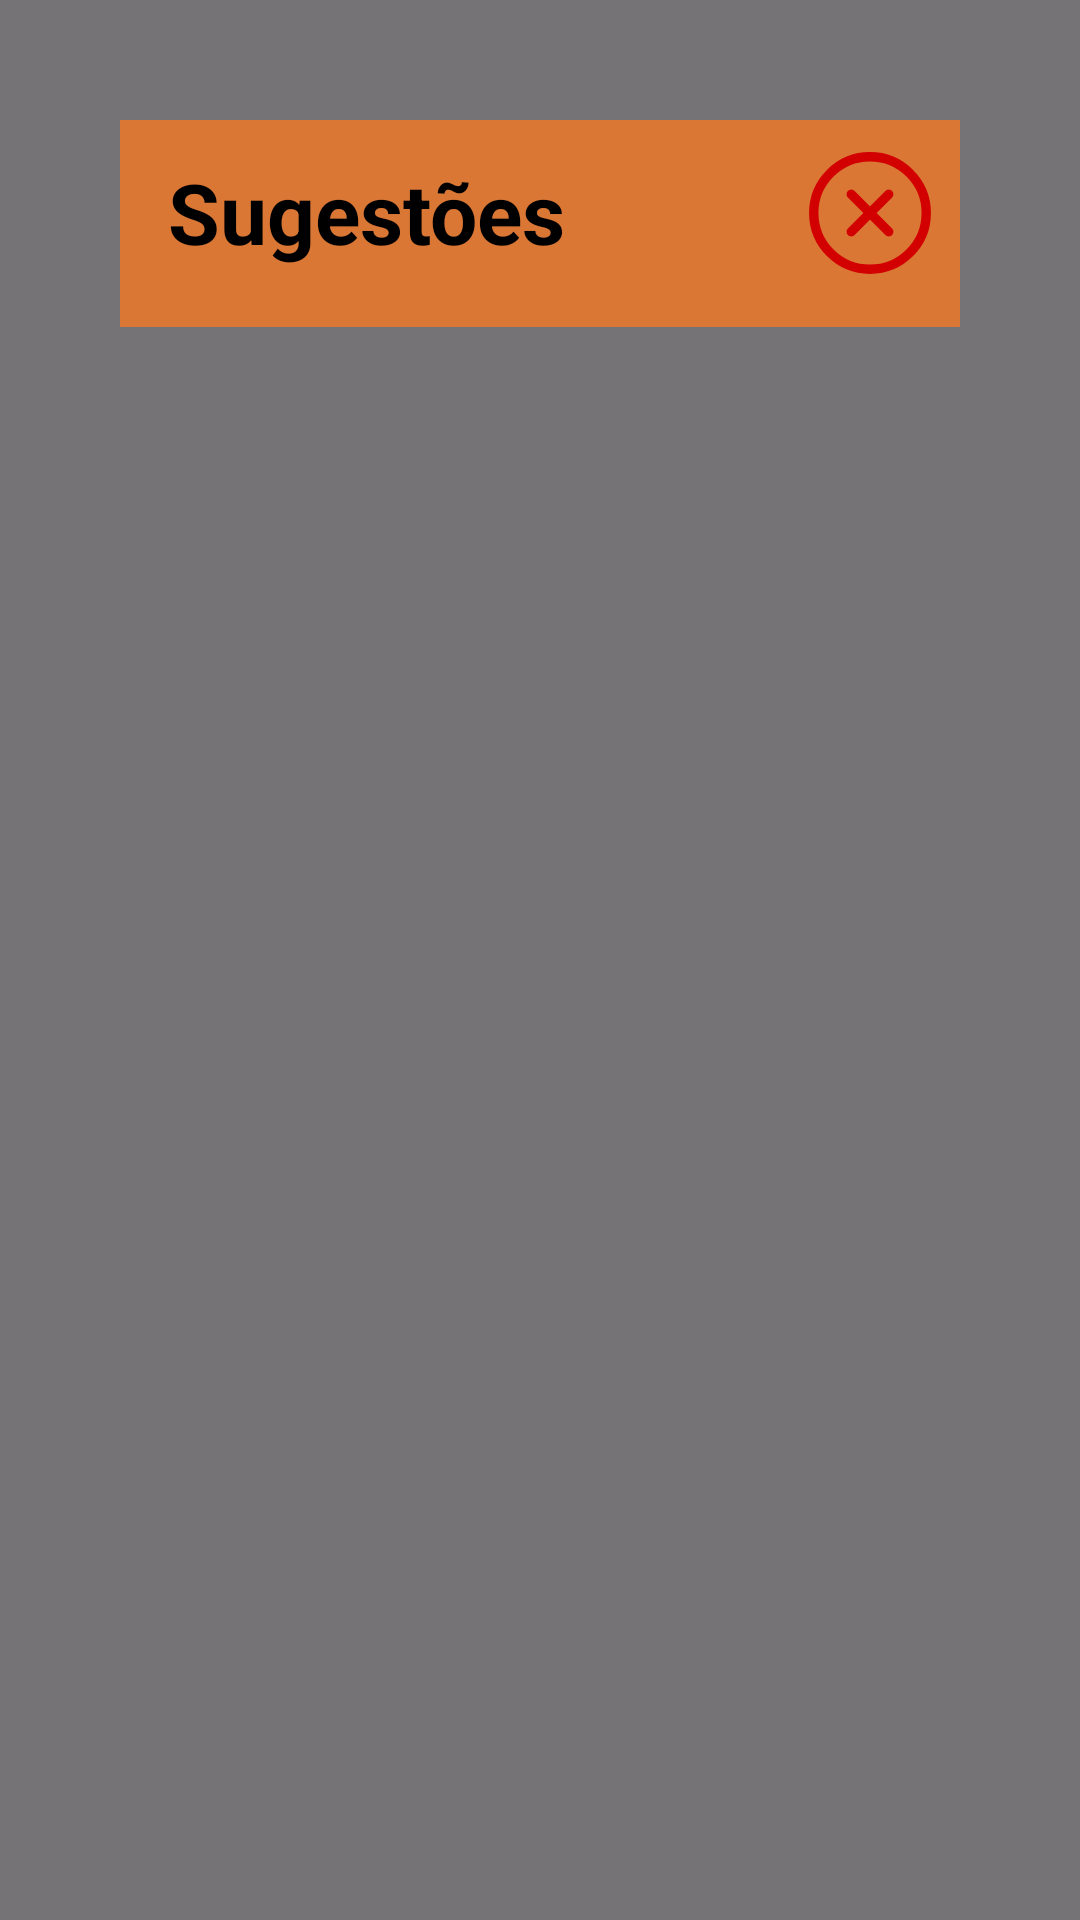

Screen size 1080px x 1920px. Icon name, then its center in pixels as point (x, y):
close circle: point (870, 213)
